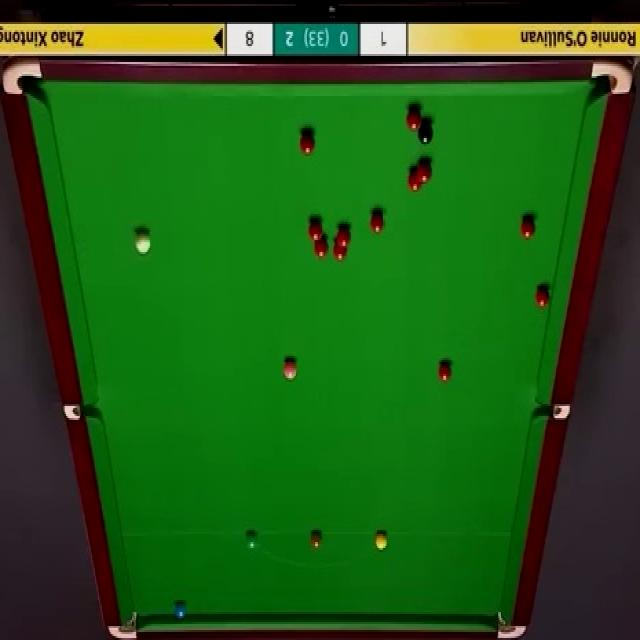black-ball: (417, 119, 434, 146)
blue-ball: (173, 598, 188, 623)
brown-ball: (309, 529, 323, 549)
green-ball: (246, 528, 260, 550)
pink-ball: (280, 356, 299, 384)
red-ball: (405, 104, 423, 131), (520, 214, 537, 242), (415, 158, 434, 183), (534, 284, 552, 310), (368, 208, 384, 232), (300, 130, 315, 155), (336, 224, 352, 247), (332, 240, 349, 261), (406, 170, 422, 192), (437, 361, 452, 384), (308, 220, 323, 242), (313, 238, 329, 258)
white-ball: (135, 228, 151, 255)
yellow-ball: (374, 530, 388, 550)
